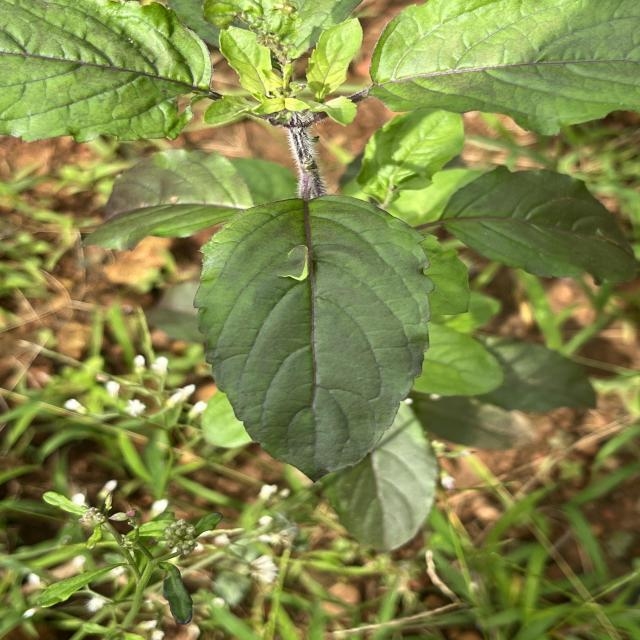Ocimum tenuiflorum: (190, 192, 436, 483)
